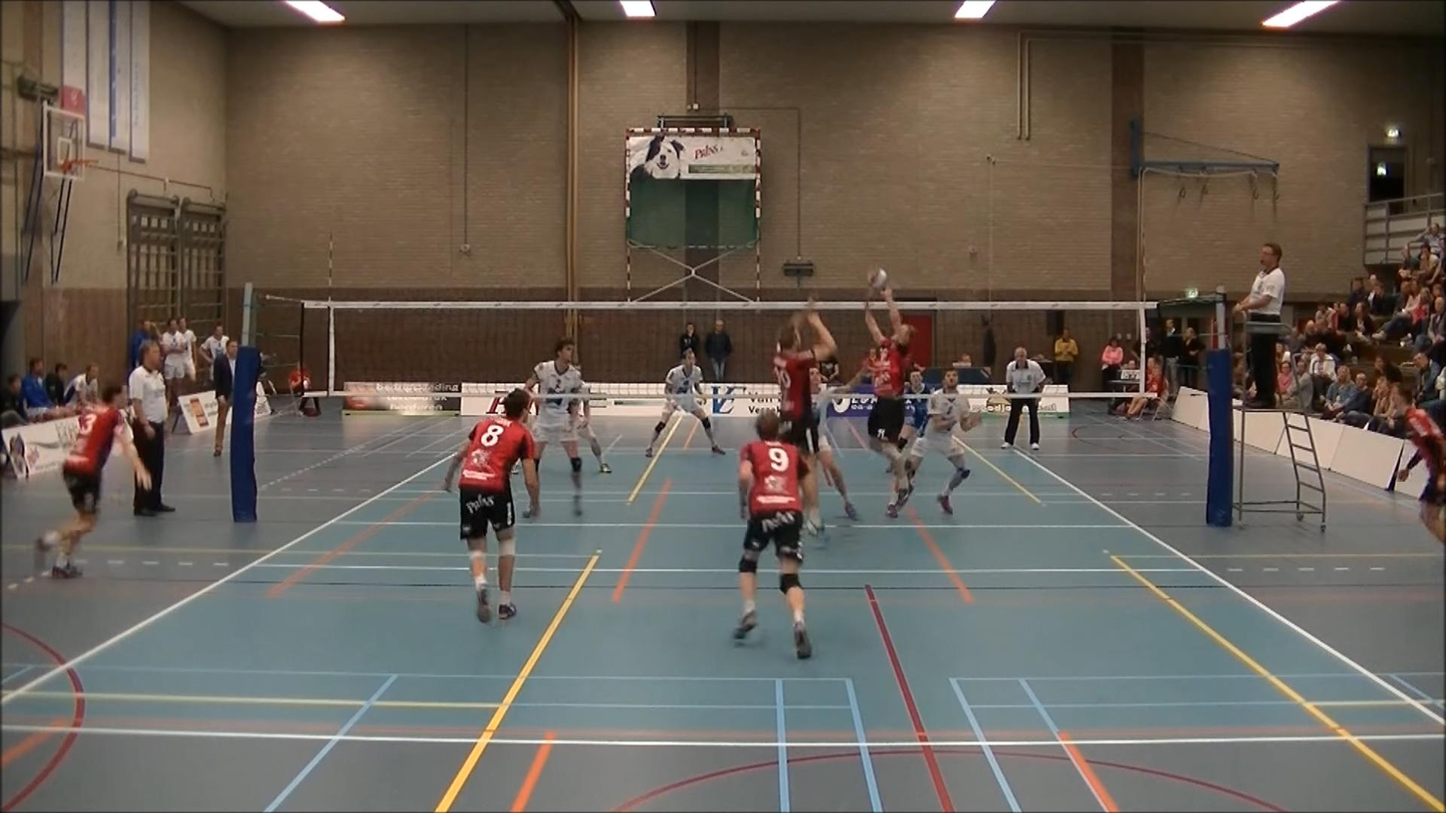Player: (443, 390, 539, 623), (36, 385, 150, 578), (734, 410, 811, 659), (773, 298, 836, 533), (524, 338, 584, 515), (906, 368, 978, 515), (645, 349, 725, 457), (1393, 384, 1445, 542), (810, 362, 858, 520), (576, 380, 612, 473), (895, 367, 929, 452), (896, 369, 929, 450)
Set: (861, 280, 916, 476)
